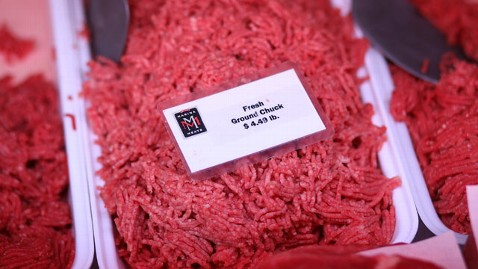ground_beef: (137, 9, 373, 246)
